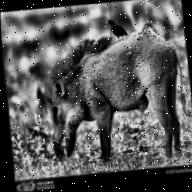boar: (34, 19, 192, 166)
